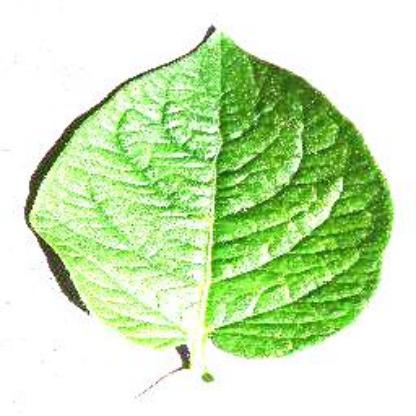Healthy-plant: (28, 28, 393, 374)
